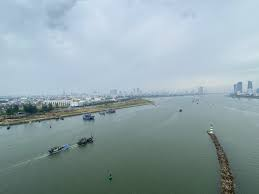tau_dansu: (72, 130, 97, 147), (83, 111, 97, 124), (104, 107, 117, 117)
